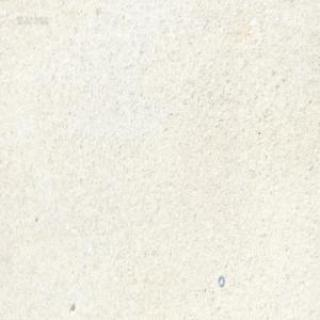Washertrack_idkeyframe: (217, 274, 224, 286)
